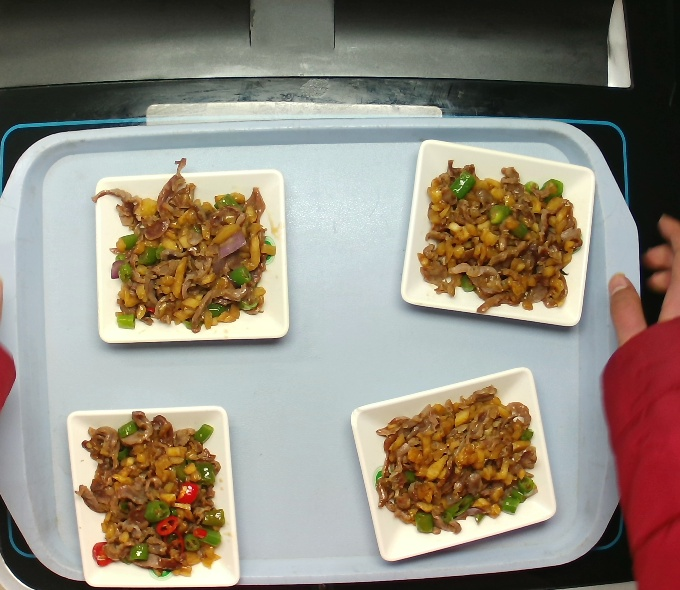wcq-ZhaCaiChaoJiZhen: (405, 148, 591, 321), (70, 401, 235, 589), (366, 383, 550, 539), (113, 171, 270, 329)
